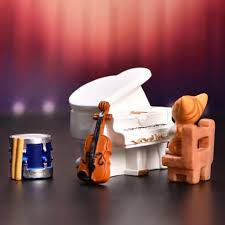Piano: (66, 55, 195, 193)
Violin: (72, 90, 123, 206)
